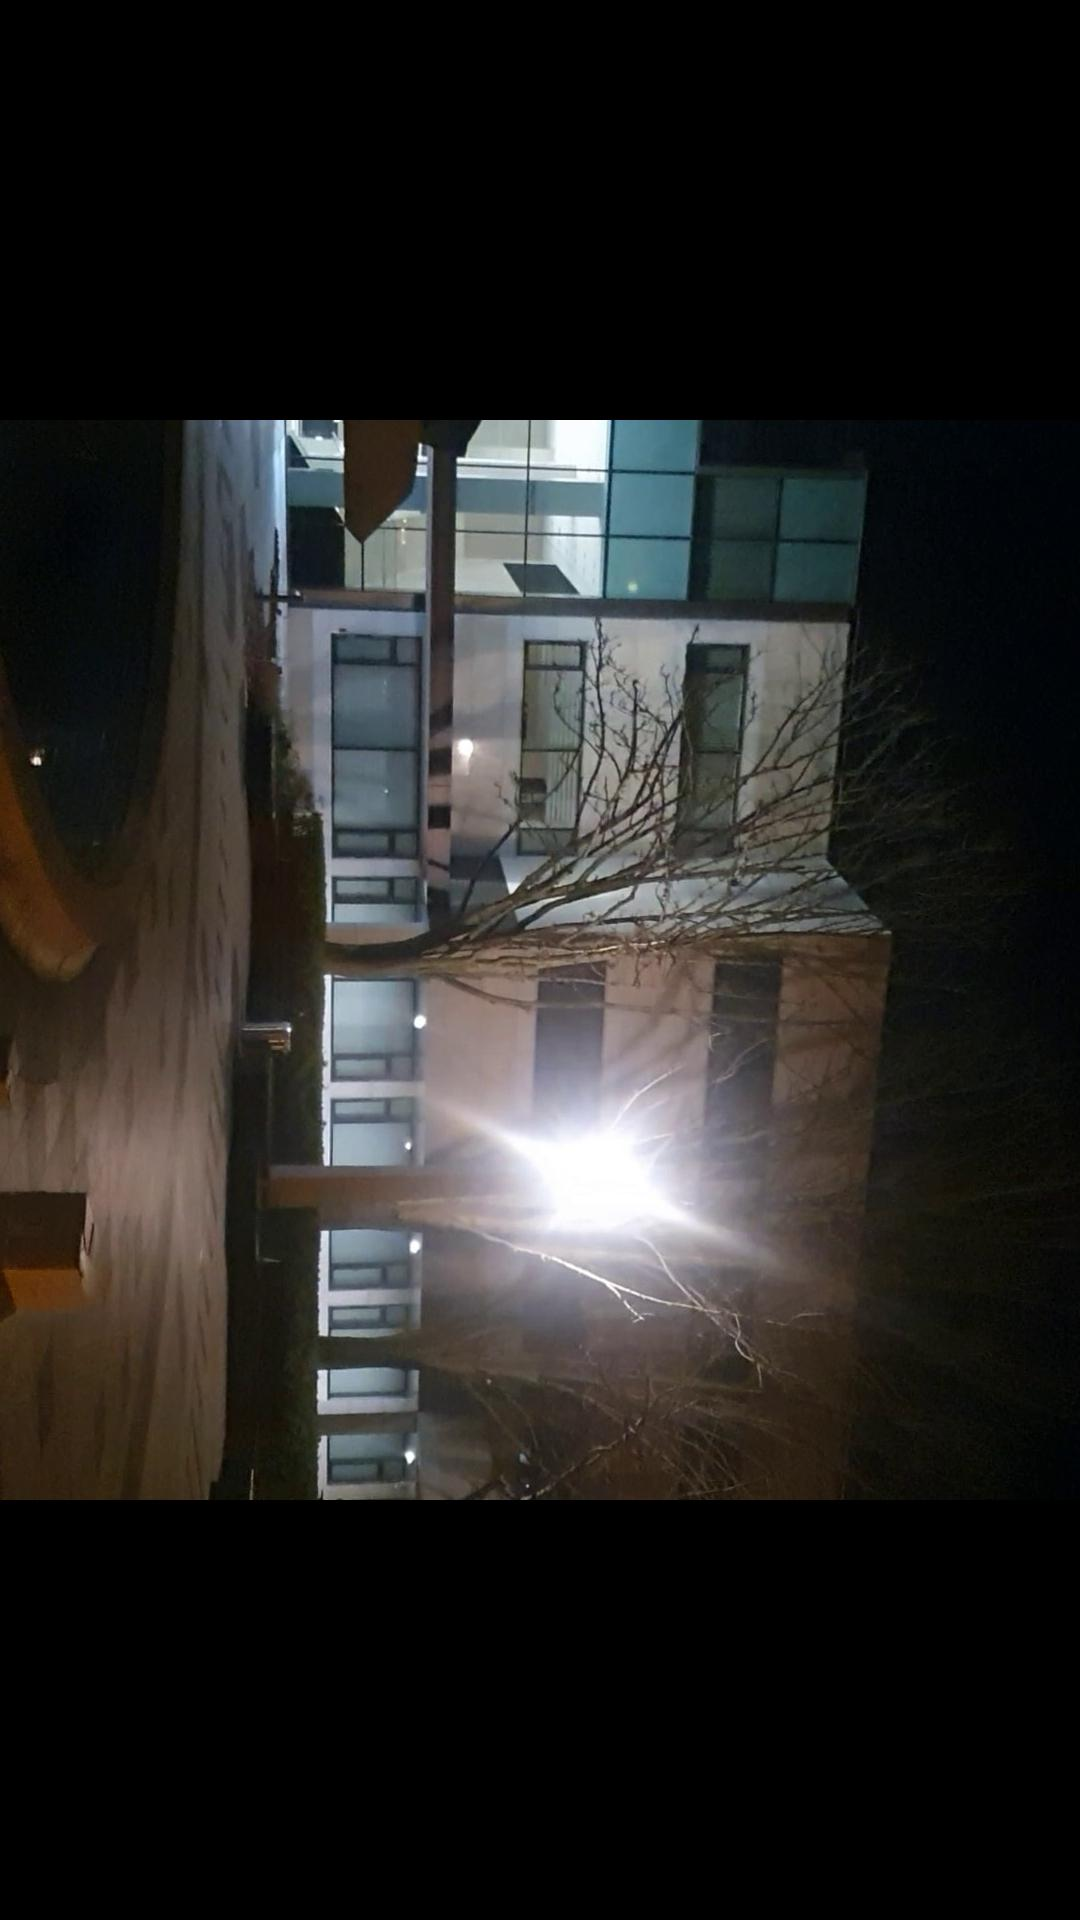Box: (0, 1188, 115, 1313), (0, 1026, 32, 1112)
